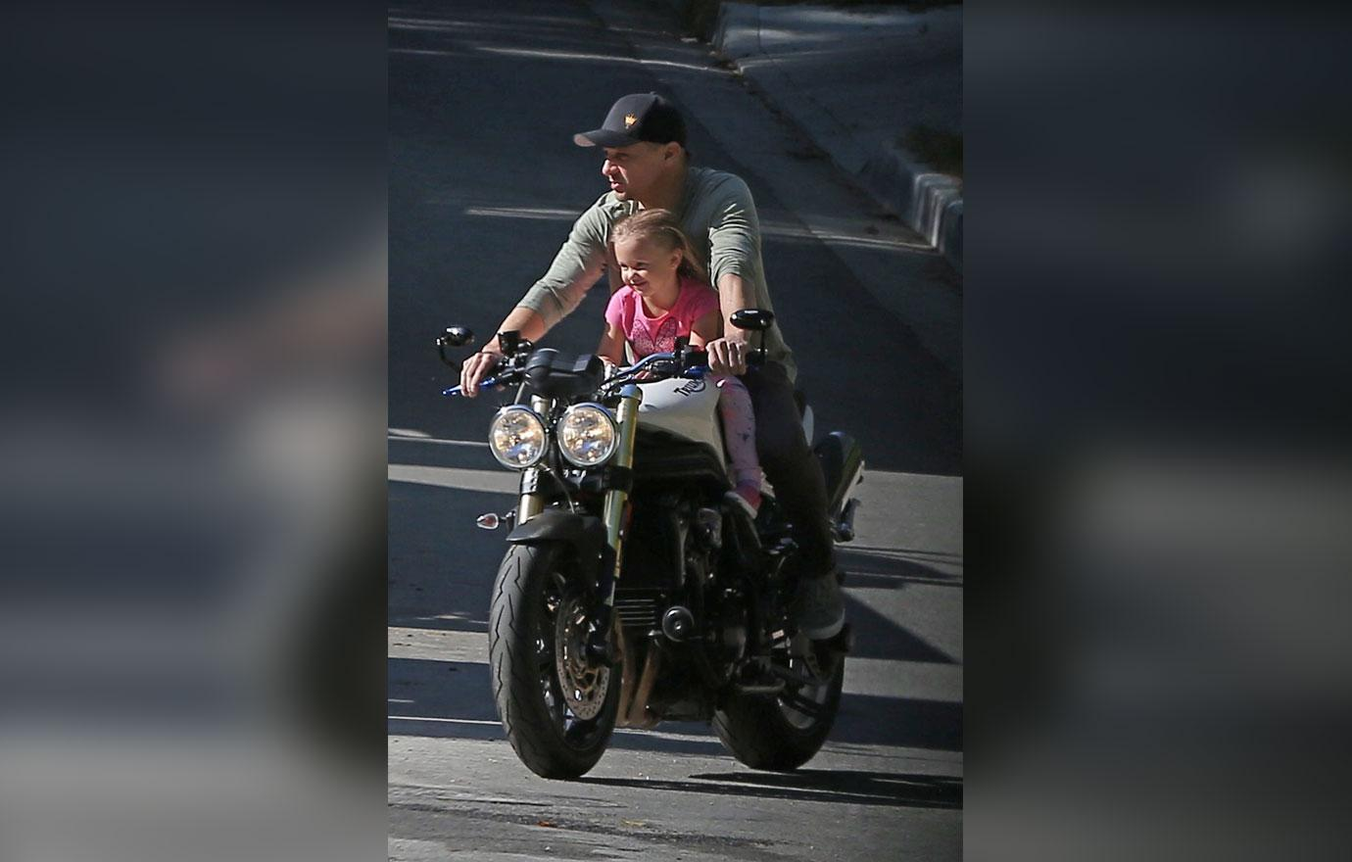nohelmet: (573, 88, 692, 207), (610, 208, 692, 301)
